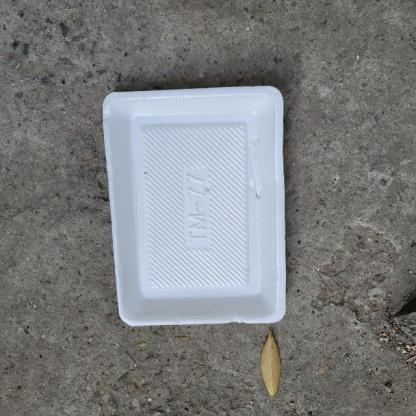Glass Cup: (102, 83, 288, 327), (103, 86, 286, 326)
